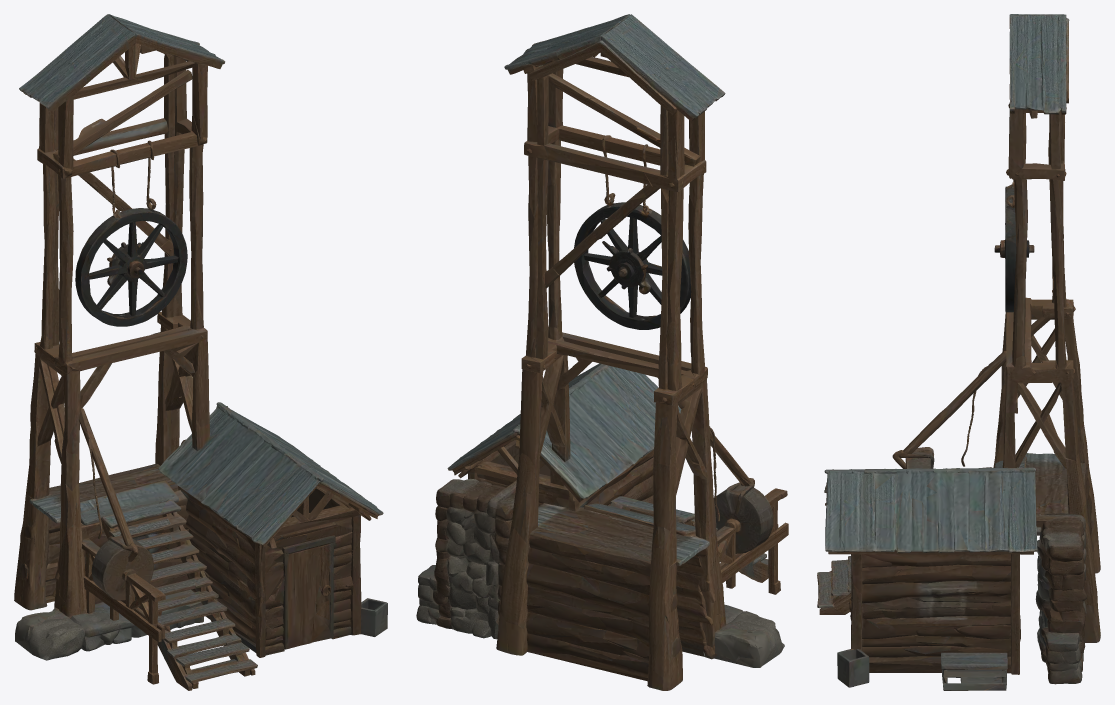
The model's file is mine.glb.
3 renders of one model, left to right at view 1: azimuth 30°, elevation 25°; view 2: azimuth 150°, elevation 25°; view 3: azimuth 270°, elevation 25°, orthographic. The views are drawn at different scales.
Size of the model in its own units: 1.03 by 1.9 by 0.8323.
1 material, 1 textured.
